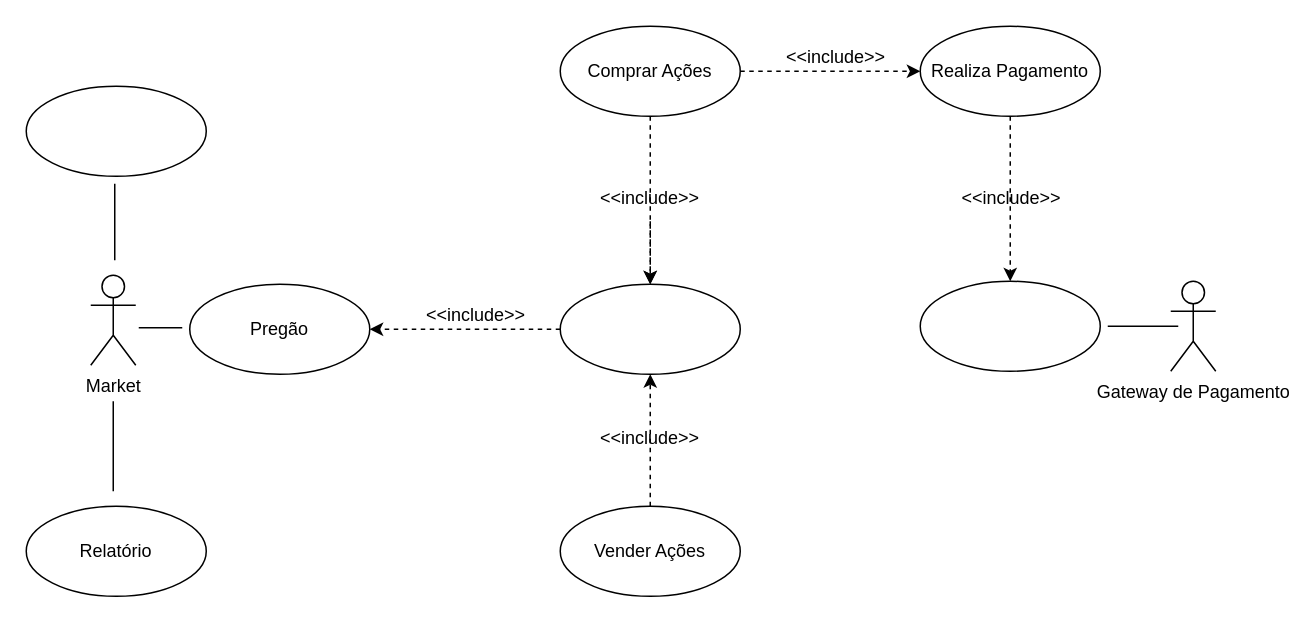
The diagram is 1316 pixels wide and 623 high, and some of its shapes have lost their labels. The shapes that lost their labels are listed below. From the top down, each one's box as (x1, y1, x2, y2) in pixels, then its label:
(25, 85, 206, 176): Verificar Conta
(559, 283, 740, 374): Buscar Empresa
(919, 280, 1100, 371): Gerencia Pagamento
